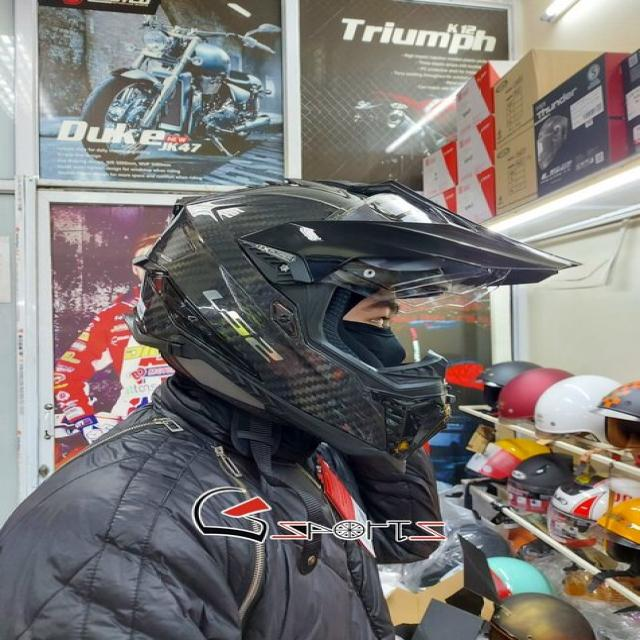Helmet: (123, 159, 586, 492)
